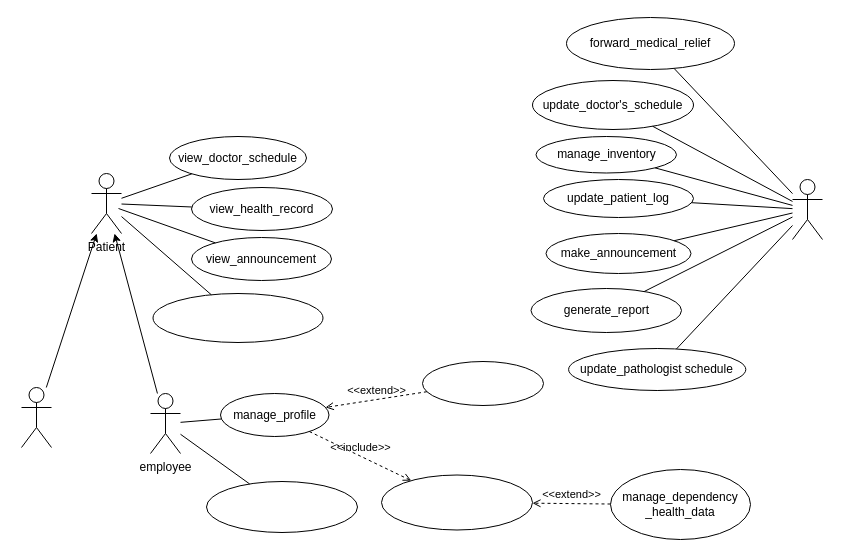
Some shapes in this 859 by 557 pixel diagram are drawn without their labels. The box of each missing label's shape, as (x1, y1, x2, y2) in pixels:
apply_for_medical_relief: (206, 480, 358, 532)
Compounder: (792, 178, 822, 240)
manage_dependency_ list: (380, 474, 532, 530)
student: (20, 386, 52, 448)
view_health_data: (422, 360, 544, 406)
view_pathologist schedule: (152, 292, 323, 342)
